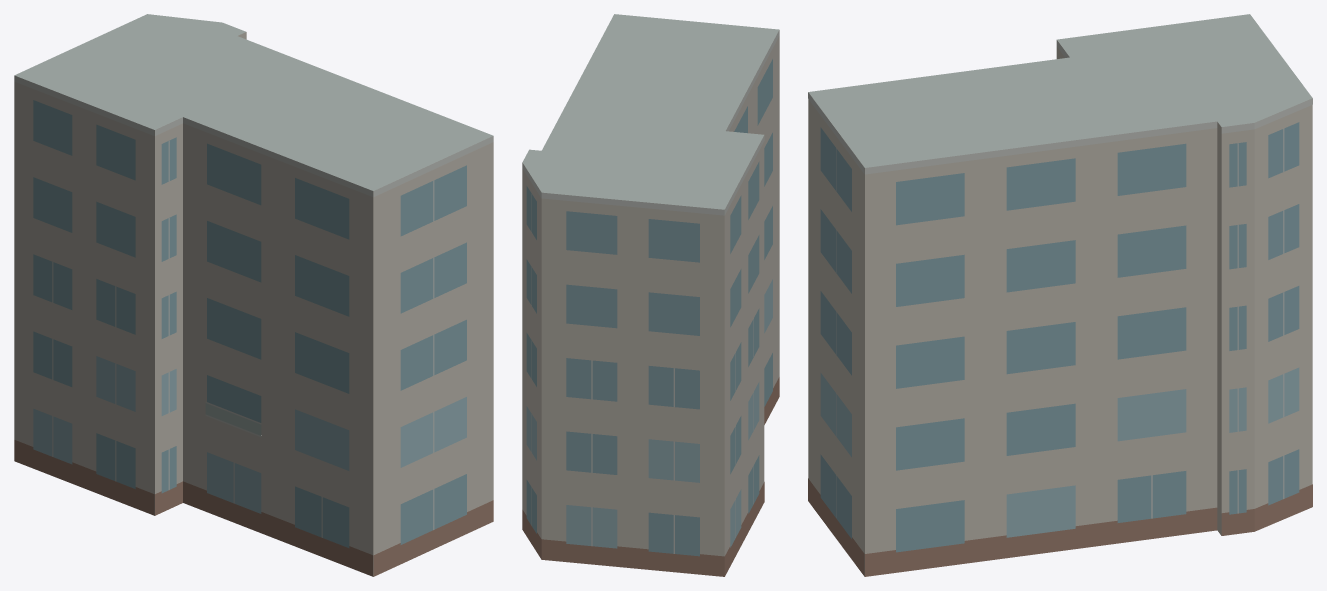
File: survey-upis-32622864.glb
The picture shows the model from 3 angles, left to right: view 1: azimuth 30°, elevation 25°; view 2: azimuth 150°, elevation 25°; view 3: azimuth 270°, elevation 25°; orthographic projection. The views are drawn at different scales.
Visible parts, largest first — view 1: survey-upis-32622864.tmp; view 2: survey-upis-32622864.tmp; view 3: survey-upis-32622864.tmp.
Boxes of the visible parts, x1,y1,x2,y2 form: survey-upis-32622864.tmp: [14, 14, 493, 576]; survey-upis-32622864.tmp: [522, 14, 779, 576]; survey-upis-32622864.tmp: [808, 14, 1312, 576].
Bounding box in the file's own units: 12.33 × 15.25 × 17.07.
